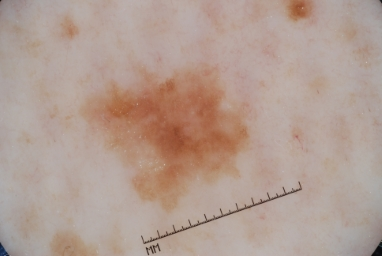seborrheic keratosis: (73, 64, 255, 192)
